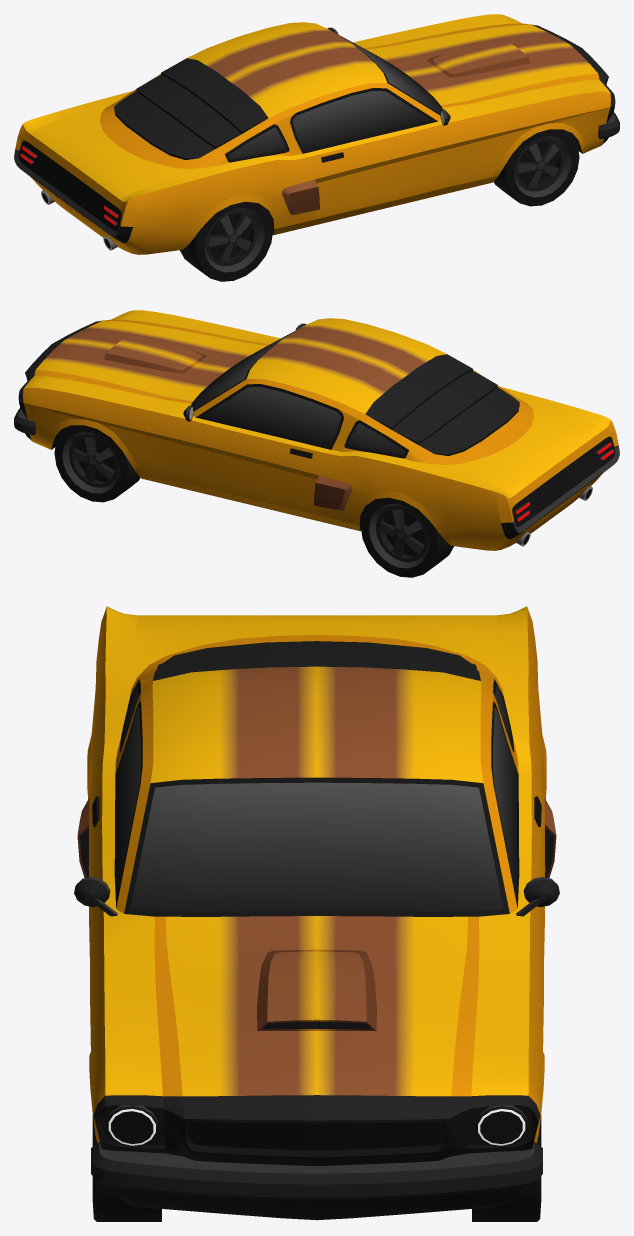
File: Car_214.glb
3 views of the same model, one above another, from view 1: azimuth 30°, elevation 25°; view 2: azimuth 150°, elevation 25°; view 3: azimuth 270°, elevation 25° (orthographic). The views are drawn at different scales.
Parts seen in each view (by area): view 1: Car_214, wheel_3_Car_214_Wheel_2R, wheel_1_Car_214_Wheel_1R; view 2: Car_214, wheel_2_Car_214_Wheel_2L, wheel_0_Car_214_Wheel_1L; view 3: Car_214, wheel_1_Car_214_Wheel_1R, wheel_0_Car_214_Wheel_1L.
Boxes of the visible parts, <box> form: Car_214: <box>14,14,619,254</box>; wheel_3_Car_214_Wheel_2R: <box>180,201,273,281</box>; wheel_1_Car_214_Wheel_1R: <box>493,129,579,206</box>; Car_214: <box>14,310,619,550</box>; wheel_2_Car_214_Wheel_2L: <box>360,497,453,577</box>; wheel_0_Car_214_Wheel_1L: <box>54,425,140,502</box>; Car_214: <box>74,606,559,1220</box>; wheel_1_Car_214_Wheel_1R: <box>92,1115,161,1221</box>; wheel_0_Car_214_Wheel_1L: <box>472,1115,541,1221</box>.
Size of the model in its own units: 4.69 by 1.37 by 1.91.
Materials: 2 (2 with a texture image).
